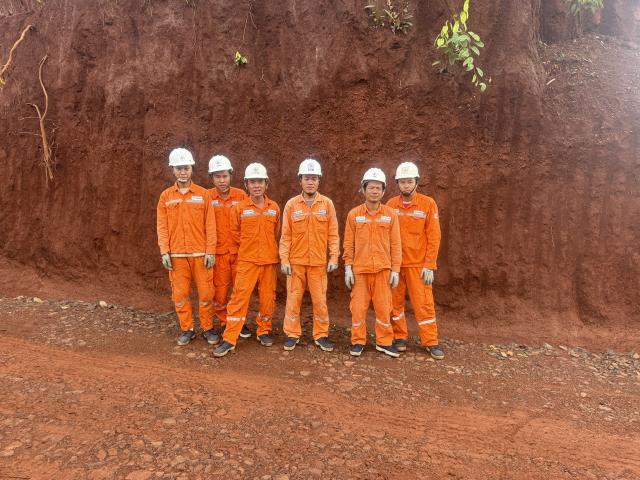gloves: (147, 245, 181, 274), (385, 261, 407, 296), (199, 246, 222, 274), (417, 266, 442, 291), (276, 254, 299, 281), (341, 261, 361, 290), (323, 252, 341, 280)
helmet: (159, 139, 199, 170), (241, 161, 276, 186), (357, 166, 388, 193), (201, 155, 233, 178), (394, 163, 421, 189), (298, 158, 325, 182)
shoes: (158, 316, 197, 356), (424, 335, 459, 369), (309, 324, 339, 360), (206, 343, 247, 366), (281, 327, 306, 358), (254, 316, 273, 356), (376, 337, 404, 362), (351, 330, 368, 369), (233, 315, 256, 340), (206, 317, 221, 346), (397, 330, 414, 354)
